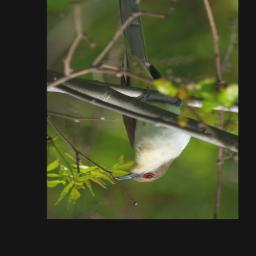Cuckoo: (112, 0, 195, 184)
